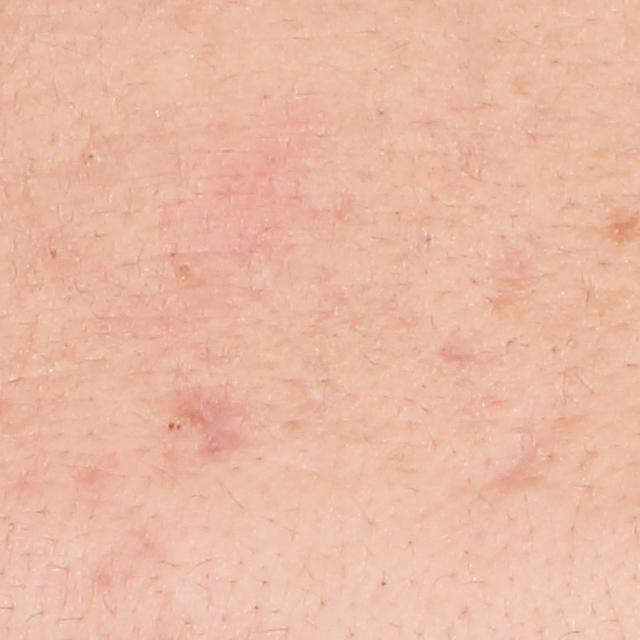atrophic_scar: (475, 418, 551, 501), (171, 392, 240, 462), (434, 324, 476, 365)
comedo: (82, 146, 107, 170), (163, 416, 189, 436), (44, 241, 62, 267), (175, 260, 191, 275)
